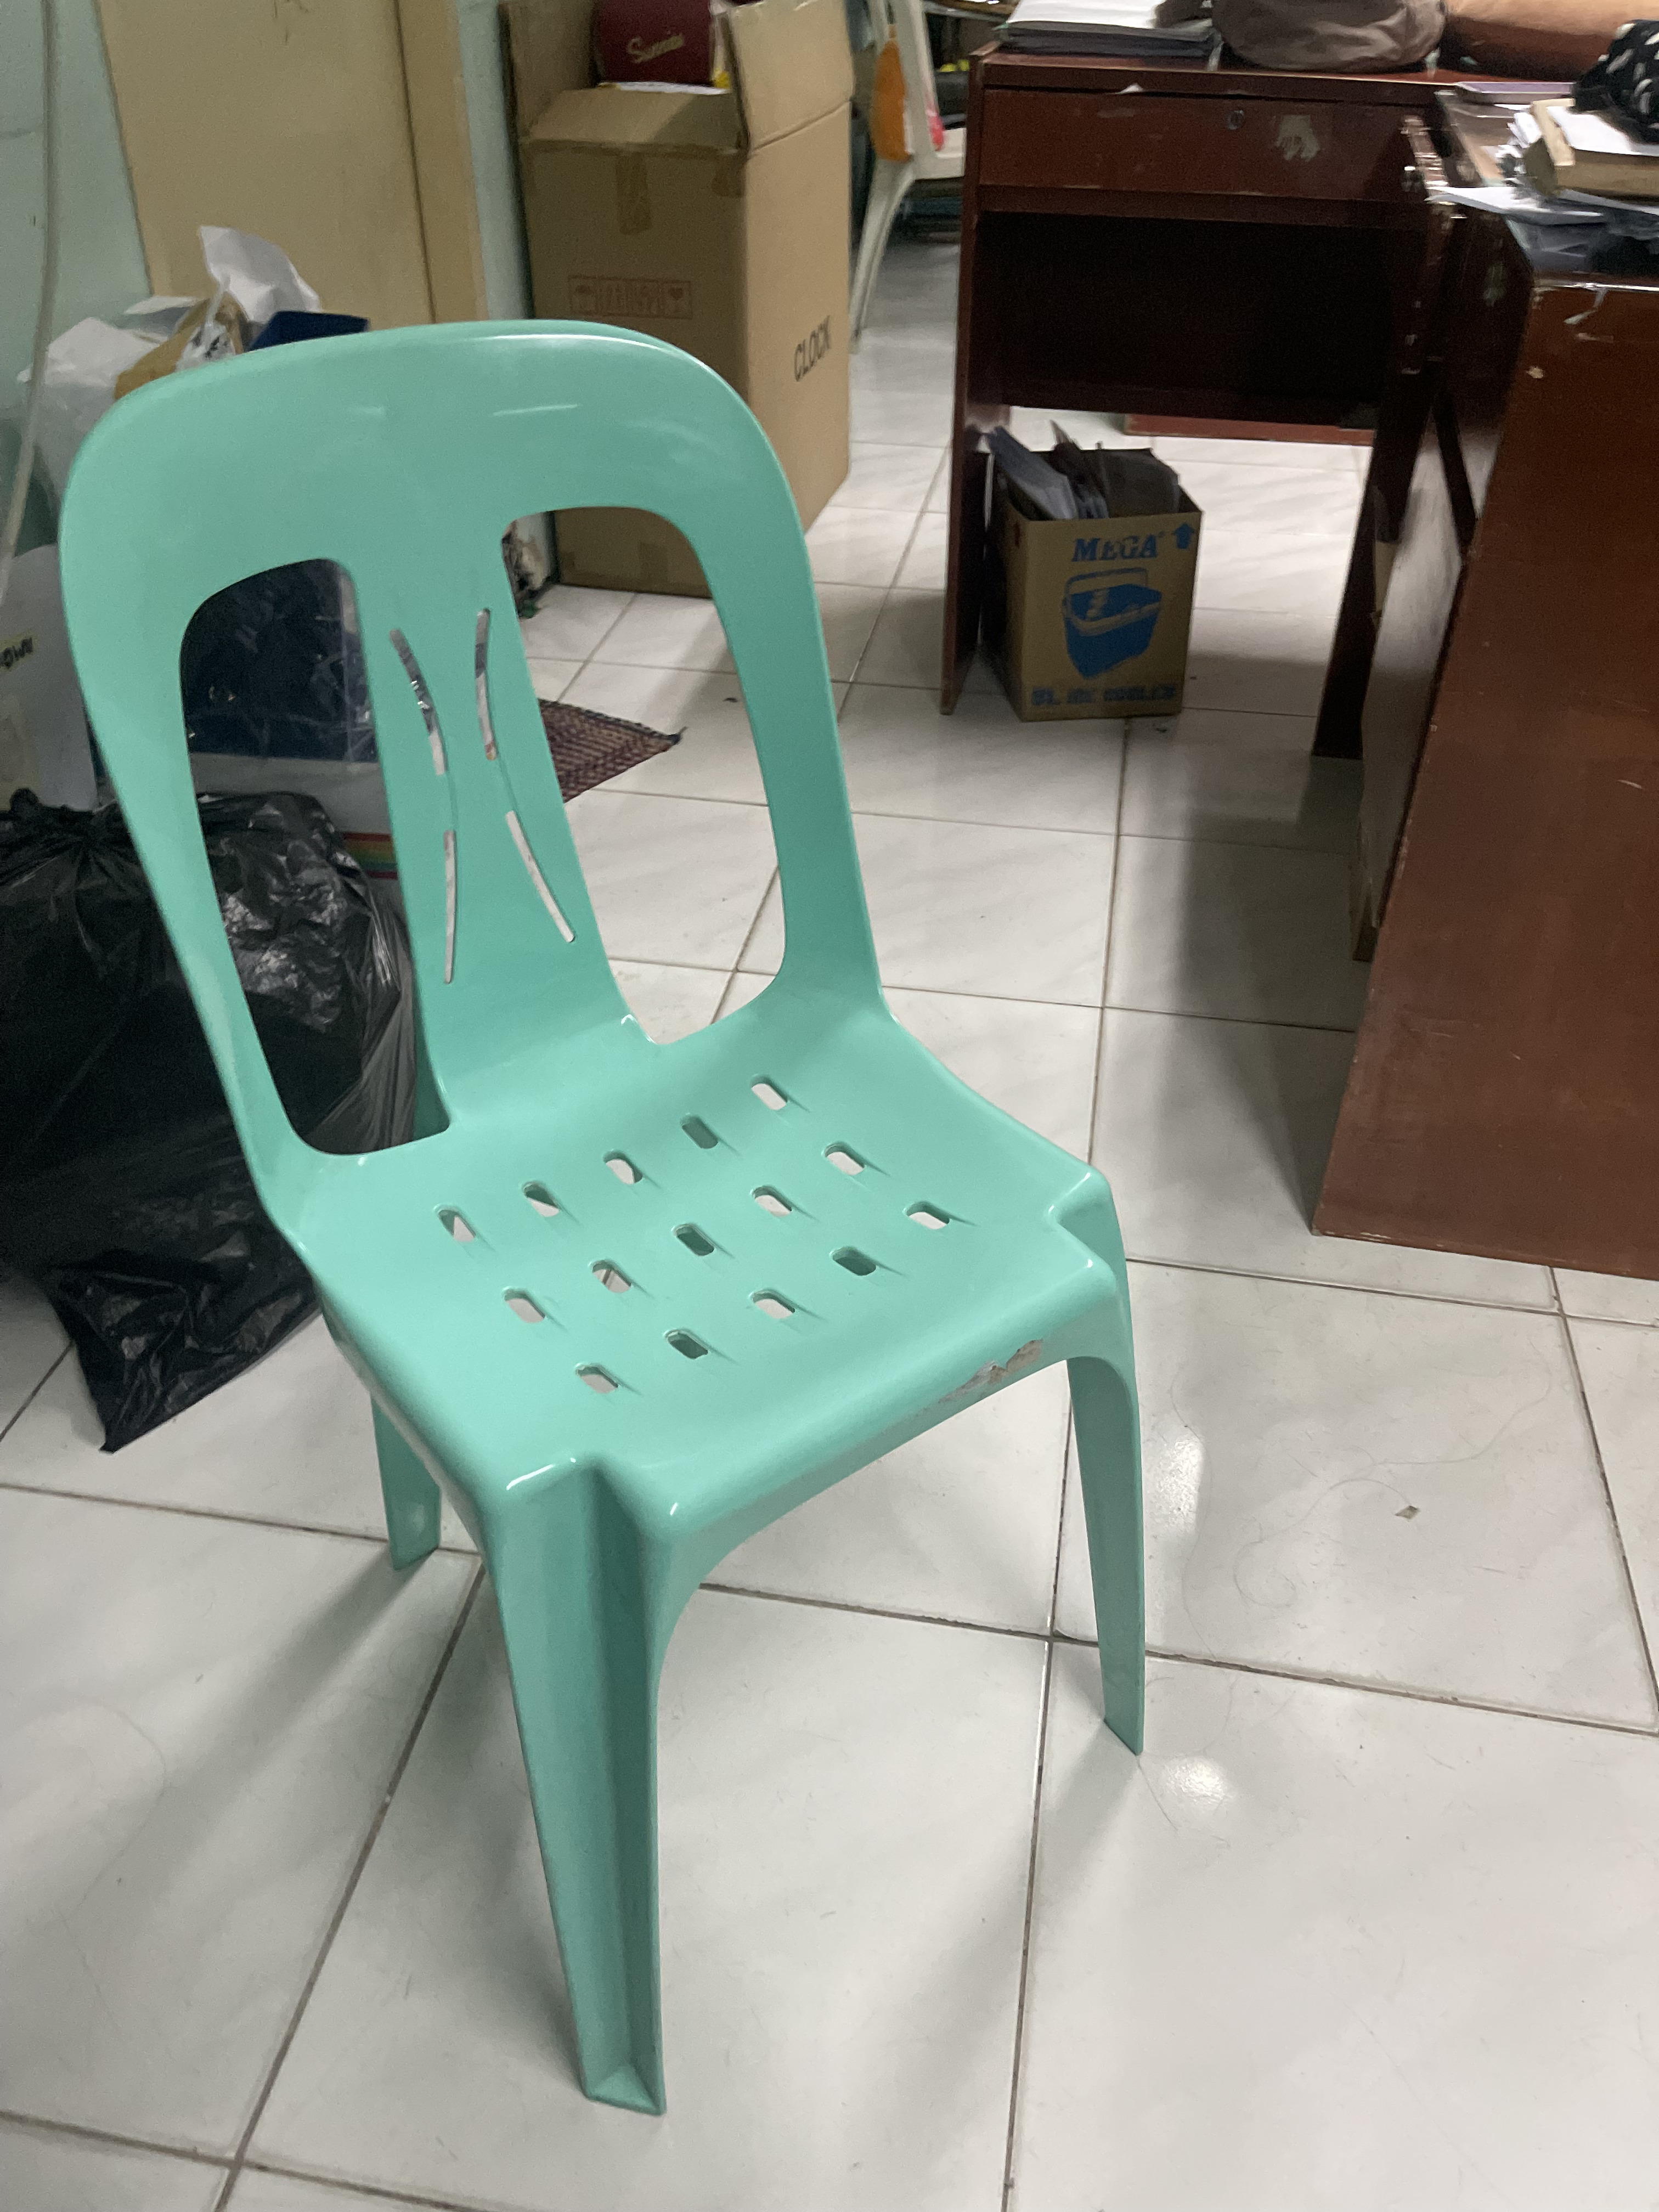chair2: (71, 314, 1162, 2114)
